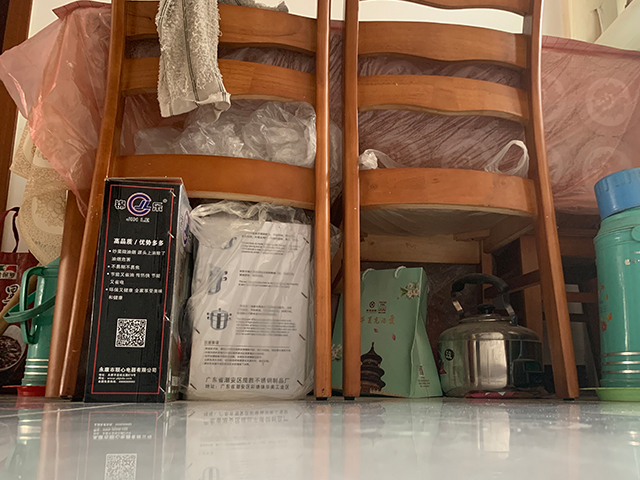stool: (56, 1, 332, 400), (339, 1, 582, 401)
